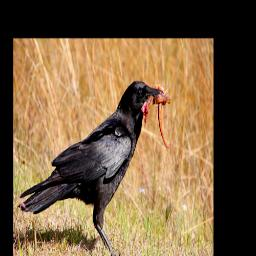Crow: (18, 75, 178, 256)
